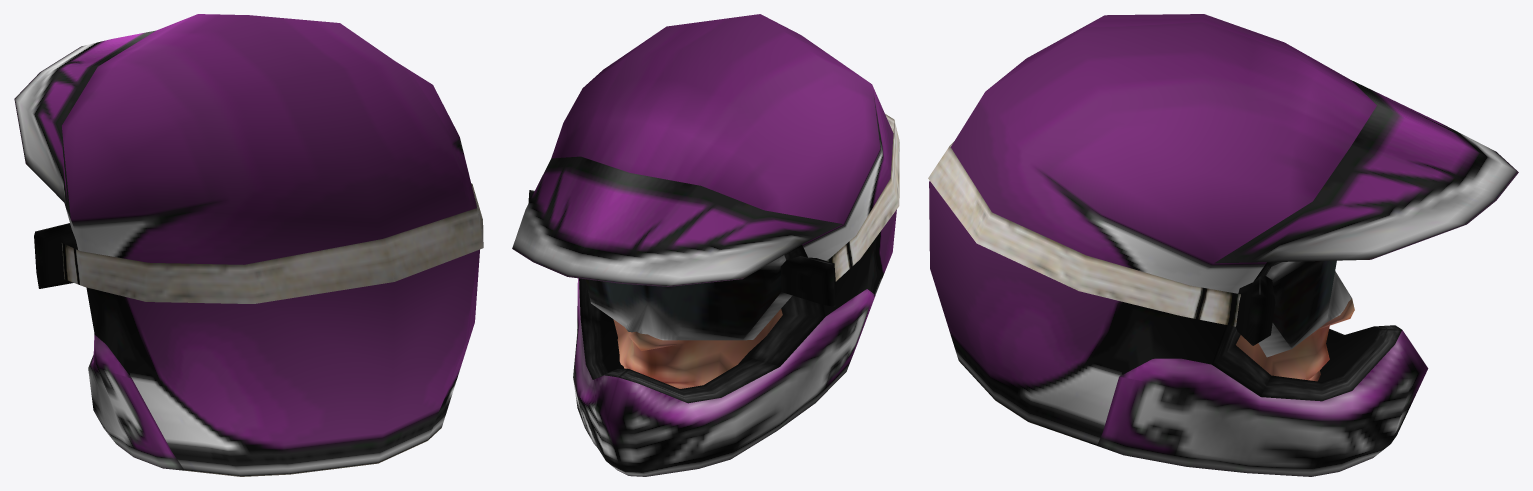
The model's file is view.ico.obj.
3 views of the same model, side by side, from view 1: azimuth 30°, elevation 25°; view 2: azimuth 150°, elevation 25°; view 3: azimuth 270°, elevation 25° (orthographic). The views are drawn at different scales.
Bounding box in the file's own units: 3.29 × 3.86 × 4.87.
1 material, 1 textured.
